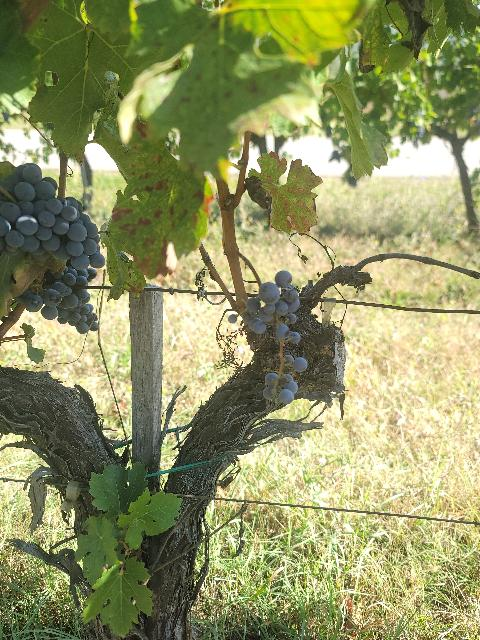grapes: (0, 164, 105, 270), (243, 271, 308, 405), (15, 266, 99, 334)
